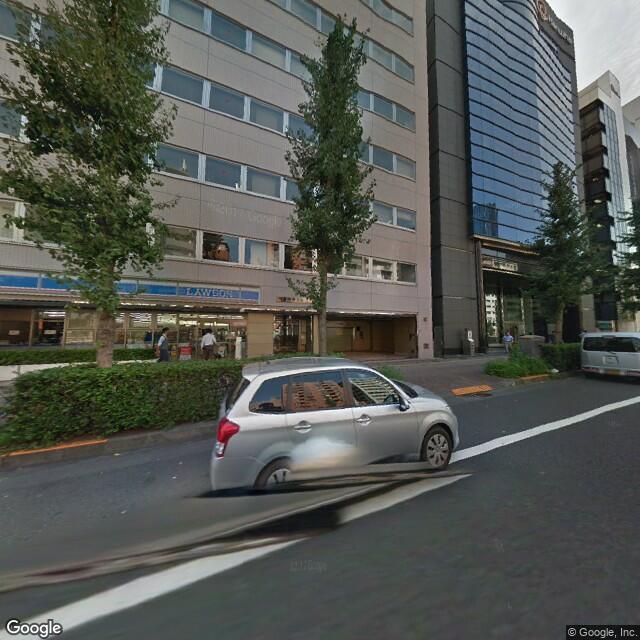lawson: (4, 265, 259, 308)
